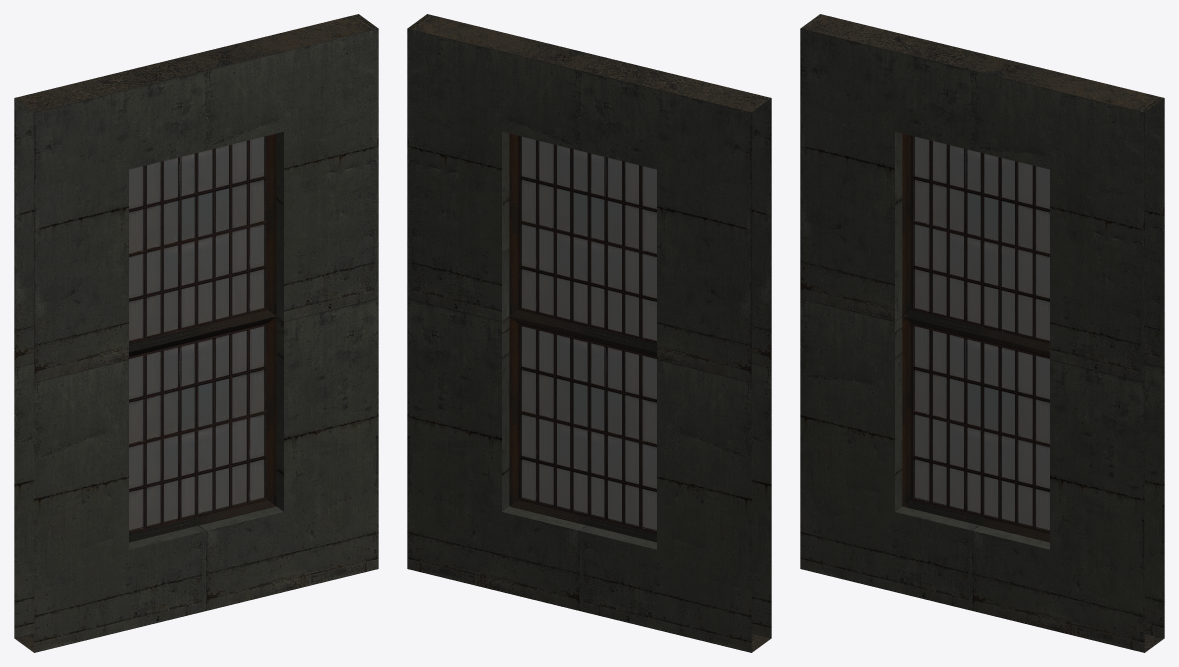
Rendered from wall_rg_1_m_2.obj.
The picture shows the model from 3 angles, left to right: view 1: azimuth 30°, elevation 25°; view 2: azimuth 150°, elevation 25°; view 3: azimuth 330°, elevation 25°; orthographic projection.
Parts seen in each view (by area): view 1: wall_rg_1_m_2; view 2: wall_rg_1_m_2; view 3: wall_rg_1_m_2.
Part boxes in pixels (x1=…): wall_rg_1_m_2: x1=14, y1=14, x2=378, y2=652; wall_rg_1_m_2: x1=407, y1=14, x2=771, y2=652; wall_rg_1_m_2: x1=800, y1=14, x2=1164, y2=652.
Size of the model in its own units: 4 by 6 by 0.4.
